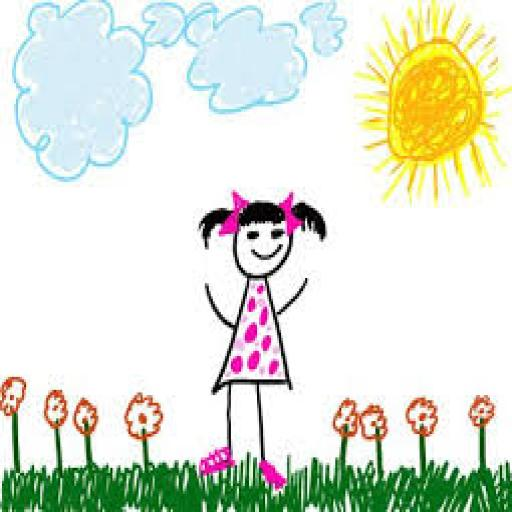person: (186, 180, 335, 495)
